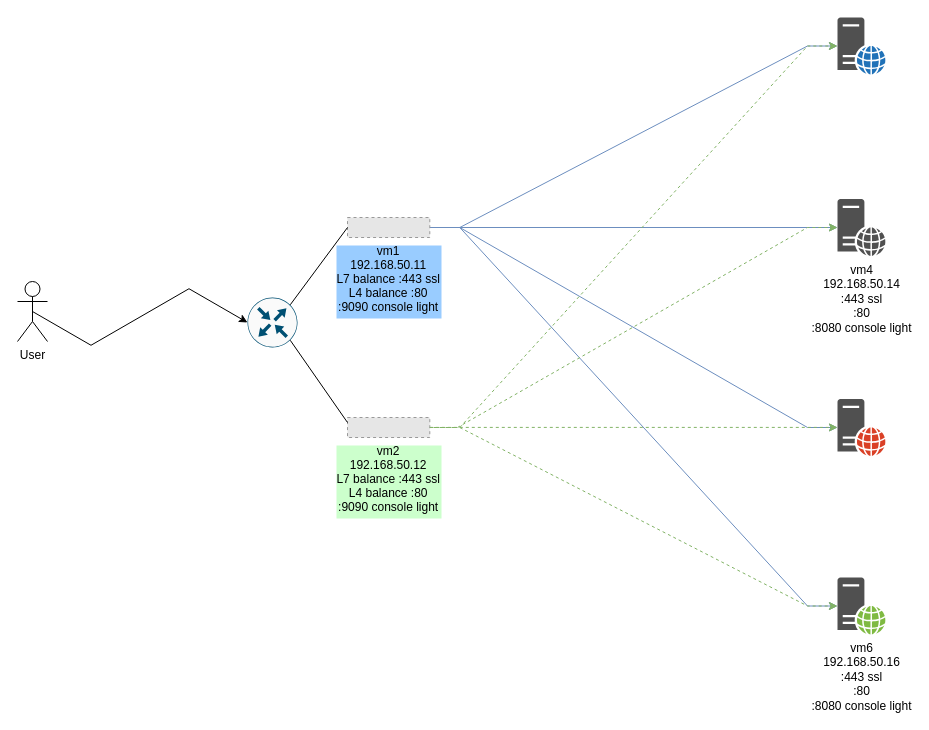
The diagram is 929 pixels wide and 730 high, and some of its shapes have lost their labels. Grey dashed boxes stand in for pictures. The box of each missing label's shape, as (x1, y1, x2, y2) in pixels:
vm3 192.168.50.13 :443 ssl :80 :8080 console light: (837, 17, 885, 74)
vm5 192.168.50.15 :443 ssl :80 :8080 console light: (837, 398, 885, 456)
VRRP 192.168.50.10: (246, 296, 298, 348)
